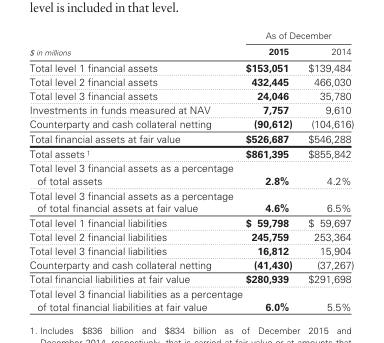table: (28, 29, 353, 312)
table column: (28, 29, 243, 312), (243, 29, 299, 312), (299, 29, 353, 312)
table column header: (28, 29, 353, 58)
table row: (28, 160, 353, 187), (28, 187, 353, 214), (28, 285, 353, 312), (28, 42, 353, 58), (28, 58, 353, 74), (28, 130, 353, 145), (28, 145, 353, 160), (28, 214, 353, 229), (28, 74, 353, 88), (28, 88, 353, 102), (28, 102, 353, 116), (28, 116, 353, 130), (28, 229, 353, 243), (28, 243, 353, 257), (28, 257, 353, 271), (28, 271, 353, 285), (28, 29, 353, 42)
table spanning cell: (28, 29, 243, 58), (243, 29, 353, 42)
